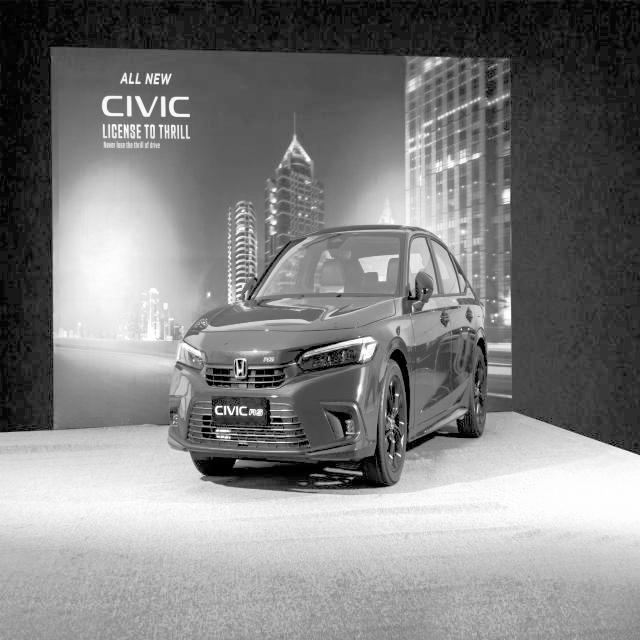Car: (167, 208, 493, 493)
